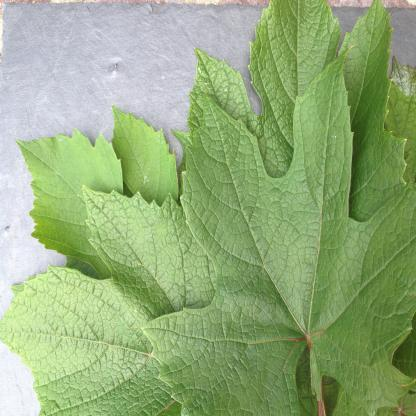grape leaf black rot: (152, 60, 416, 416), (1, 186, 179, 416)
